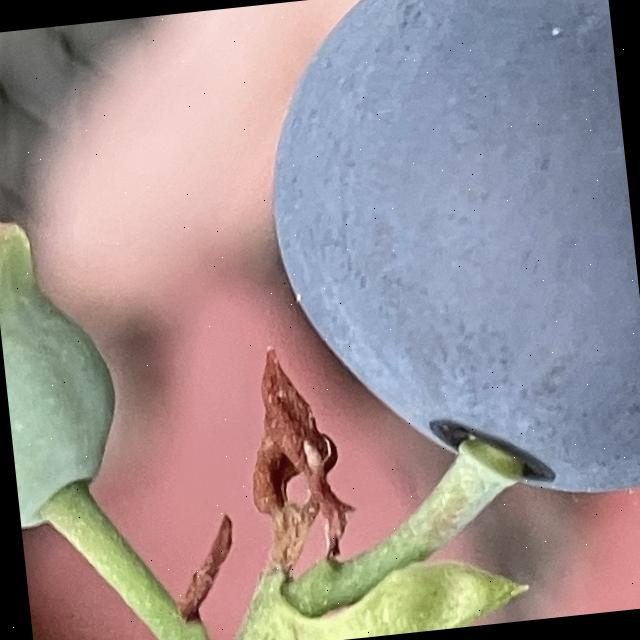Blueberries: (239, 0, 640, 547)
